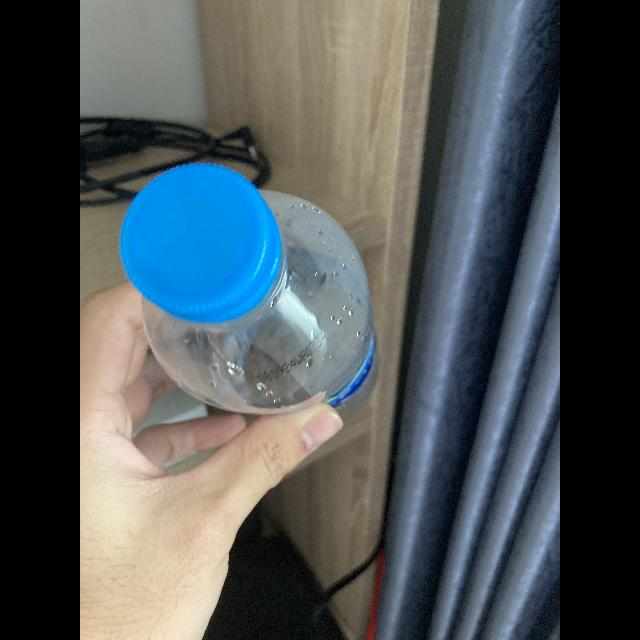plastic_bottle: (118, 160, 384, 418)
plastic_bottle_cap: (118, 160, 284, 318)
